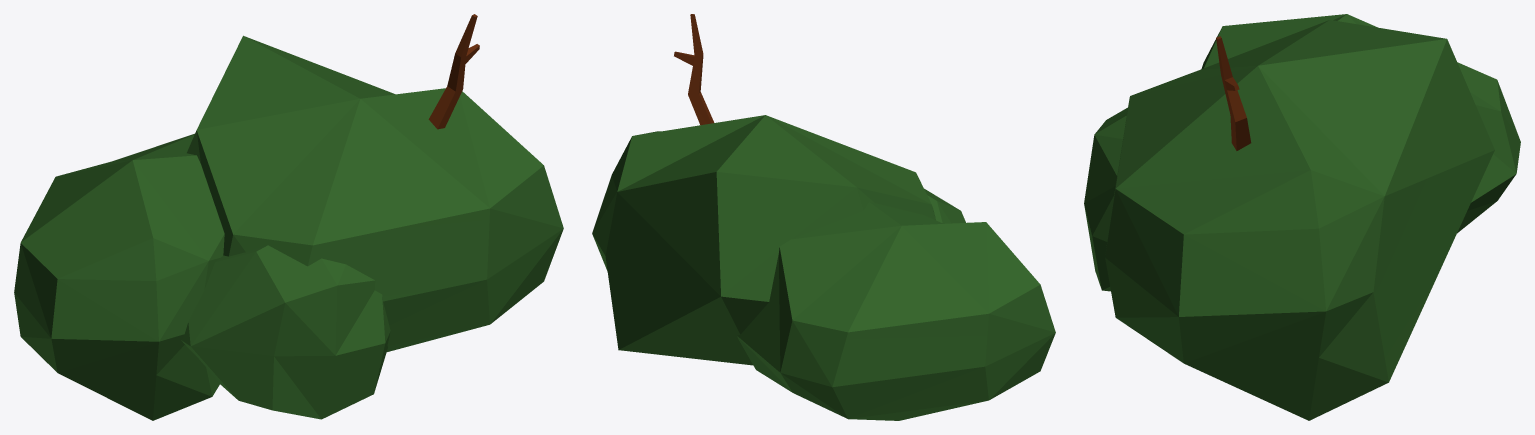
File: bush_03.glb
3 views of the same model, side by side, from view 1: azimuth 30°, elevation 25°; view 2: azimuth 150°, elevation 25°; view 3: azimuth 270°, elevation 25° (orthographic). The views are drawn at different scales.
Parts seen in each view (by area): view 1: Bush_temp_climate_003; view 2: Bush_temp_climate_003; view 3: Bush_temp_climate_003.
Part boxes in pixels (x1=…): Bush_temp_climate_003: x1=14, y1=14, x2=563, y2=420; Bush_temp_climate_003: x1=592, y1=14, x2=1055, y2=420; Bush_temp_climate_003: x1=1084, y1=14, x2=1520, y2=420.
Bounding box in the file's own units: 1.69 × 1.13 × 1.2.
Materials: 1 (1 with a texture image).
